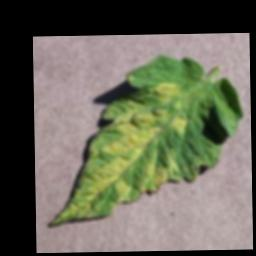Leaf_Mold: (44, 81, 190, 227)
